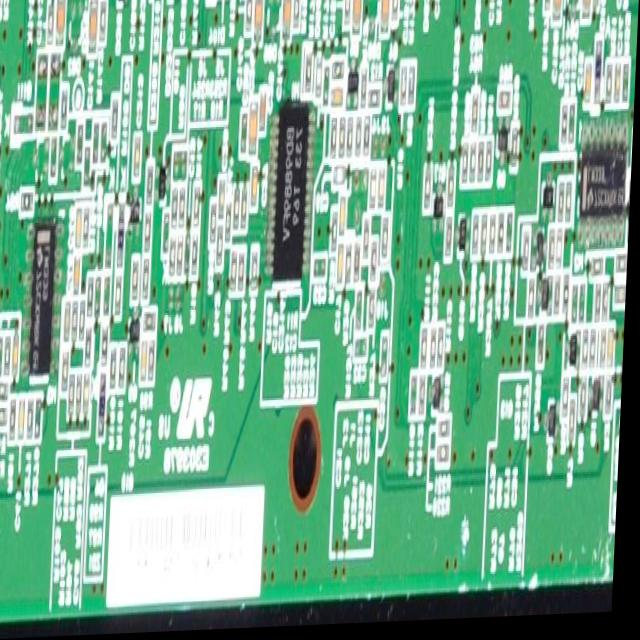IC: (272, 125, 311, 262), (582, 155, 627, 233), (34, 236, 53, 373)
capacitor: (249, 105, 260, 163), (174, 152, 189, 188), (88, 2, 98, 56), (134, 132, 143, 185), (383, 335, 392, 385), (56, 0, 66, 45), (584, 63, 593, 110), (242, 105, 250, 153), (86, 375, 95, 417), (580, 0, 592, 29), (253, 167, 260, 216), (20, 402, 28, 443), (255, 0, 263, 40), (339, 250, 346, 295), (281, 0, 290, 35), (15, 338, 23, 377), (553, 0, 563, 30), (353, 0, 362, 33), (615, 67, 622, 109), (381, 0, 389, 36), (358, 343, 369, 365), (332, 91, 343, 111), (144, 344, 149, 387), (324, 64, 329, 105), (221, 179, 226, 219), (77, 261, 82, 291), (79, 208, 83, 244)
resistor: (21, 192, 39, 218), (583, 383, 593, 429), (400, 58, 408, 115), (499, 84, 513, 115), (373, 231, 381, 285), (566, 273, 576, 315), (607, 378, 616, 424), (252, 250, 261, 296), (585, 328, 593, 378), (145, 308, 159, 336), (51, 137, 60, 180), (511, 132, 520, 174), (413, 378, 421, 425), (605, 65, 613, 112), (573, 400, 581, 447), (12, 399, 20, 443), (150, 345, 158, 389), (472, 224, 481, 263), (408, 66, 415, 116), (304, 59, 311, 108), (348, 246, 356, 288), (93, 124, 101, 166), (492, 207, 498, 262), (332, 121, 339, 168), (592, 333, 600, 374), (343, 0, 351, 41), (483, 209, 489, 263), (134, 258, 141, 304), (30, 399, 38, 438), (356, 119, 363, 163), (143, 261, 151, 299), (370, 87, 383, 110), (61, 89, 68, 131), (624, 62, 630, 111), (340, 205, 348, 241), (447, 221, 454, 262), (145, 215, 152, 256), (426, 169, 432, 216), (39, 400, 46, 440), (332, 214, 339, 254), (241, 195, 248, 235), (556, 274, 562, 320), (603, 338, 610, 377), (572, 289, 578, 334), (384, 217, 390, 262), (486, 144, 492, 189), (366, 114, 372, 159), (443, 445, 453, 472), (7, 338, 14, 376), (595, 266, 606, 290), (292, 0, 301, 29), (219, 229, 226, 266), (226, 208, 233, 245), (122, 349, 128, 392), (612, 323, 618, 366), (0, 335, 6, 378), (365, 224, 371, 267), (78, 124, 84, 167), (441, 333, 448, 369), (75, 299, 81, 340), (372, 170, 378, 211), (102, 123, 108, 164), (113, 98, 119, 139), (599, 289, 606, 324), (97, 284, 104, 319), (479, 141, 484, 190), (65, 352, 71, 392), (90, 279, 96, 319), (106, 275, 112, 315), (0, 408, 11, 429), (193, 242, 200, 275), (335, 170, 346, 191), (442, 421, 453, 442), (620, 258, 630, 281), (178, 244, 184, 282), (173, 193, 179, 231), (500, 217, 505, 262), (472, 143, 477, 188), (118, 275, 124, 312), (181, 191, 187, 228), (99, 5, 105, 42), (79, 378, 85, 414), (114, 349, 119, 392), (508, 220, 513, 262), (473, 97, 479, 132), (48, 6, 54, 41), (568, 186, 573, 227), (464, 147, 469, 188), (435, 333, 441, 367), (359, 299, 365, 333), (425, 334, 432, 363), (236, 192, 241, 232), (173, 243, 178, 282), (349, 124, 354, 163), (0, 384, 12, 400), (82, 306, 88, 338), (558, 243, 565, 270), (334, 67, 345, 84), (379, 178, 385, 209), (570, 123, 576, 154), (582, 292, 587, 329), (241, 255, 246, 292), (450, 170, 455, 207), (542, 0, 549, 26), (423, 373, 427, 418), (89, 339, 95, 369), (104, 332, 110, 362), (196, 192, 202, 222), (618, 293, 629, 309), (213, 202, 217, 246), (68, 308, 73, 343), (149, 172, 154, 207), (356, 252, 361, 286), (317, 62, 321, 104), (234, 259, 239, 292), (551, 244, 557, 271), (561, 188, 565, 227), (567, 386, 572, 417), (341, 127, 345, 164), (371, 303, 376, 332), (187, 241, 191, 277), (73, 380, 77, 414), (563, 118, 567, 150), (607, 297, 611, 326)
transistor: (435, 190, 445, 226), (348, 73, 358, 102), (389, 81, 397, 117), (500, 141, 508, 171), (554, 404, 560, 444), (542, 293, 551, 318), (462, 231, 469, 262), (595, 388, 602, 418), (158, 180, 166, 205), (135, 200, 142, 228), (132, 328, 142, 347), (545, 194, 553, 216), (572, 351, 578, 370)
